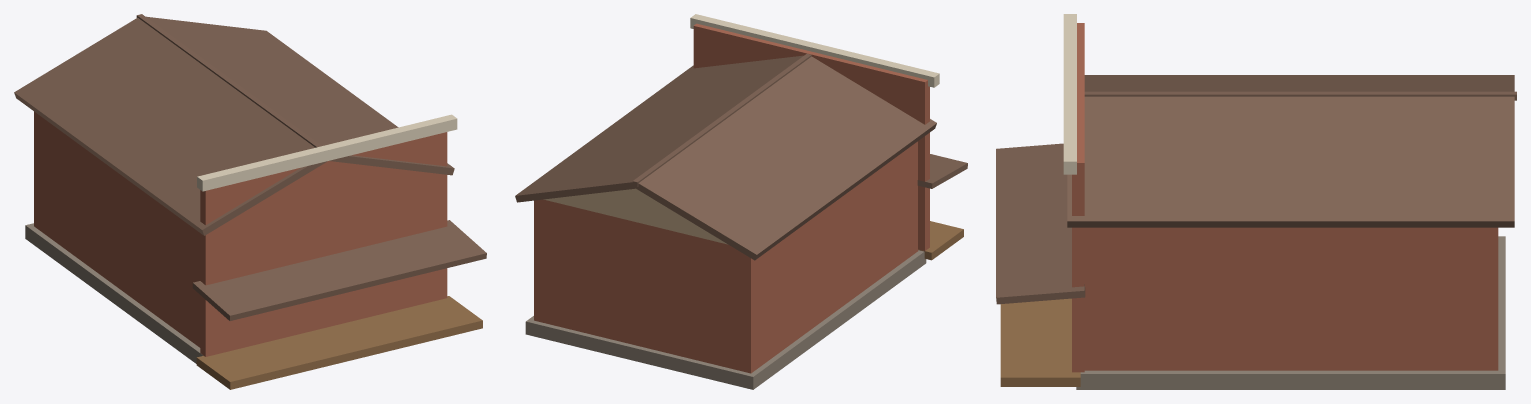
File: arizona-shop-false-front_lod1.glb
The picture shows the model from 3 angles, left to right: view 1: azimuth 30°, elevation 25°; view 2: azimuth 150°, elevation 25°; view 3: azimuth 270°, elevation 25°; orthographic projection. The views are drawn at different scales.
Visible parts, largest first — view 1: RF_AZ_Shop_FalseFront, RF_AZ_Shop_RoofLeft, RF_AZ_Shop_Walls, RF_AZ_Shop_RoofRight, RF_AZ_Shop_PorchRoof, RF_AZ_Shop_PorchDeck, RF_AZ_Shop_Cornice, RF_AZ_Shop_Foundation, RF_AZ_Shop_Ridge; view 2: RF_AZ_Shop_Walls, RF_AZ_Shop_RoofLeft, RF_AZ_Shop_RoofRight, RF_AZ_Shop_FalseFront, RF_AZ_Shop_Foundation, RF_AZ_Shop_Gable.001, RF_AZ_Shop_Cornice, RF_AZ_Shop_Ridge, RF_AZ_Shop_PorchDeck, RF_AZ_Shop_PorchRoof; view 3: RF_AZ_Shop_Walls, RF_AZ_Shop_RoofRight, RF_AZ_Shop_PorchRoof, RF_AZ_Shop_Foundation, RF_AZ_Shop_RoofLeft, RF_AZ_Shop_PorchDeck, RF_AZ_Shop_FalseFront, RF_AZ_Shop_Ridge, RF_AZ_Shop_Cornice.
Boxes of the visible parts, x1,y1,x2,y2 form: RF_AZ_Shop_FalseFront: [200, 132, 447, 356]; RF_AZ_Shop_RoofLeft: [14, 17, 327, 235]; RF_AZ_Shop_Walls: [34, 111, 200, 347]; RF_AZ_Shop_RoofRight: [146, 16, 454, 175]; RF_AZ_Shop_PorchRoof: [192, 220, 486, 320]; RF_AZ_Shop_PorchDeck: [196, 296, 482, 389]; RF_AZ_Shop_Cornice: [197, 114, 457, 191]; RF_AZ_Shop_Foundation: [25, 223, 203, 363]; RF_AZ_Shop_Ridge: [136, 14, 321, 147]; RF_AZ_Shop_Walls: [534, 141, 918, 373]; RF_AZ_Shop_RoofLeft: [635, 56, 936, 260]; RF_AZ_Shop_RoofRight: [515, 55, 803, 202]; RF_AZ_Shop_FalseFront: [693, 23, 929, 250]; RF_AZ_Shop_Foundation: [525, 250, 926, 389]; RF_AZ_Shop_Gable.001: [543, 188, 727, 244]; RF_AZ_Shop_Cornice: [690, 14, 939, 87]; RF_AZ_Shop_Ridge: [632, 53, 811, 186]; RF_AZ_Shop_PorchDeck: [918, 221, 963, 260]; RF_AZ_Shop_PorchRoof: [917, 154, 967, 188]; RF_AZ_Shop_Walls: [1084, 227, 1498, 370]; RF_AZ_Shop_RoofRight: [1067, 96, 1514, 227]; RF_AZ_Shop_PorchRoof: [996, 143, 1085, 304]; RF_AZ_Shop_Foundation: [1076, 236, 1505, 389]; RF_AZ_Shop_RoofLeft: [1084, 75, 1514, 91]; RF_AZ_Shop_PorchDeck: [1000, 298, 1080, 386]; RF_AZ_Shop_FalseFront: [1072, 23, 1084, 372]; RF_AZ_Shop_Ridge: [1084, 91, 1516, 100]; RF_AZ_Shop_Cornice: [1063, 14, 1076, 174].
Size of the model in its own units: 11.9 by 8.69 by 17.58.
